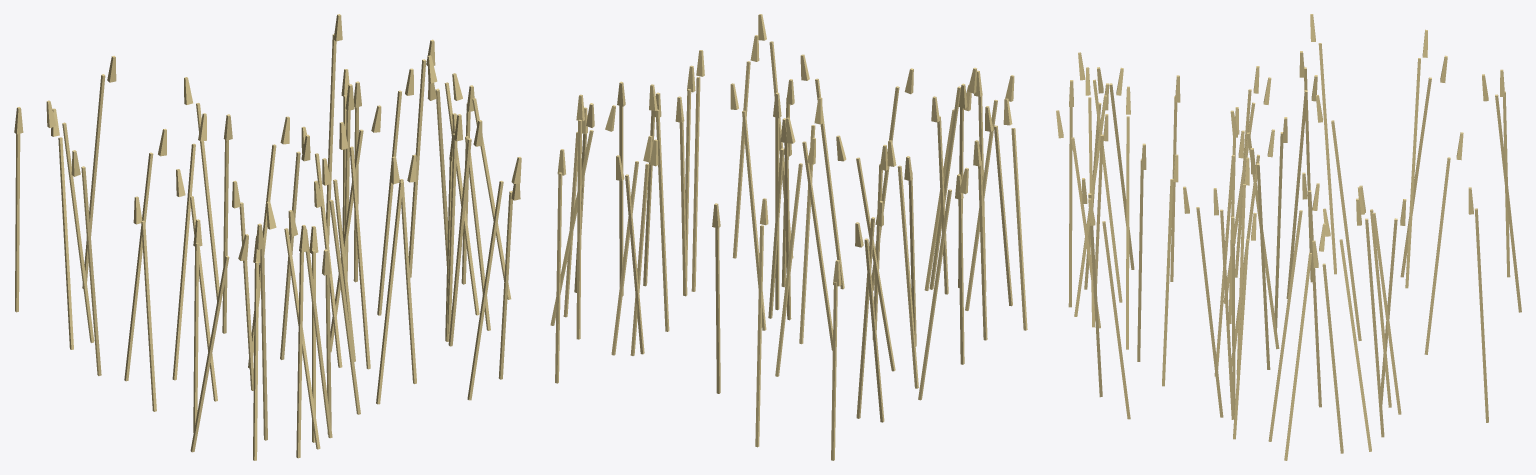
Rendered from Uprawa_Pszenica_2.fbx.
The picture shows the model from 3 angles, left to right: view 1: azimuth 30°, elevation 25°; view 2: azimuth 150°, elevation 25°; view 3: azimuth 270°, elevation 25°; orthographic projection. The views are drawn at different scales.
Visible parts, largest first — view 1: Uprawa_Pszenica_2; view 2: Uprawa_Pszenica_2; view 3: Uprawa_Pszenica_2.
Boxes of the visible parts, left/top/right/bottom form: Uprawa_Pszenica_2: left=14, top=14, right=521, bottom=460; Uprawa_Pszenica_2: left=550, top=14, right=1027, bottom=460; Uprawa_Pszenica_2: left=1056, top=14, right=1521, bottom=460.
Bounding box in the file's own units: 1.94 × 1.08 × 1.85.
